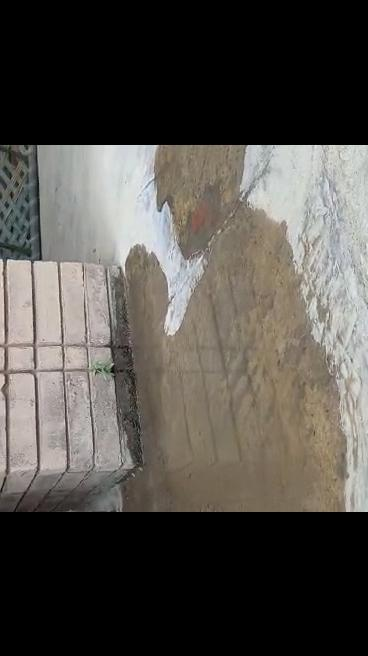water accumulation: (109, 144, 335, 512)
